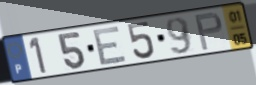1: (28, 36, 50, 76)
5: (125, 20, 157, 60), (55, 31, 87, 71)
9: (165, 16, 194, 55)
E: (92, 24, 129, 67)
P: (193, 10, 225, 52)
